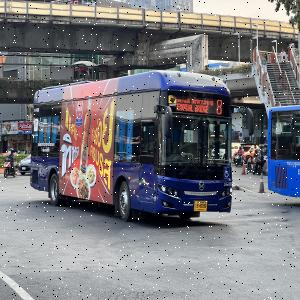Bus Line Number: (216, 96, 225, 119)
Bus Side Number: (224, 180, 232, 186)
Destination Sign: (175, 93, 214, 117)
TSB-Bus: (29, 69, 233, 222)
